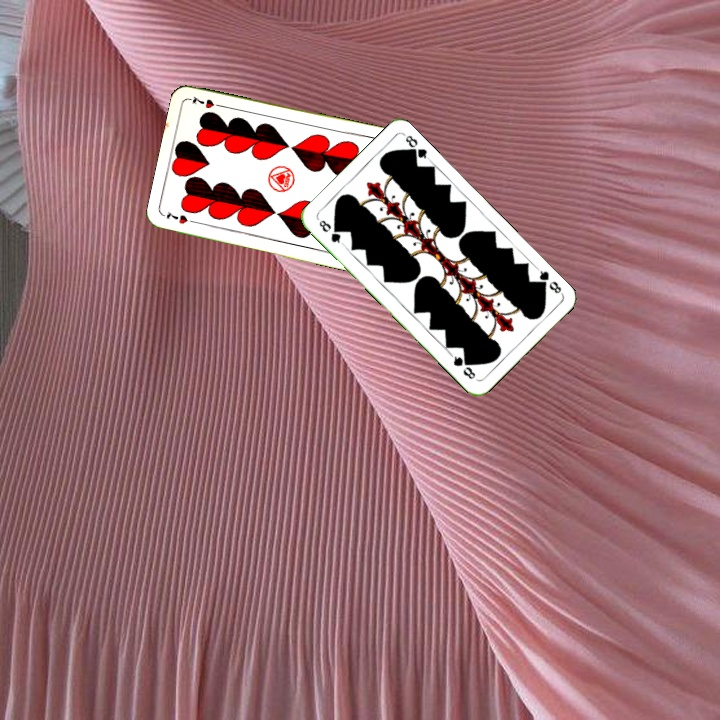G8: (533, 264, 565, 296), (315, 216, 346, 247)
H7: (162, 207, 201, 227)
